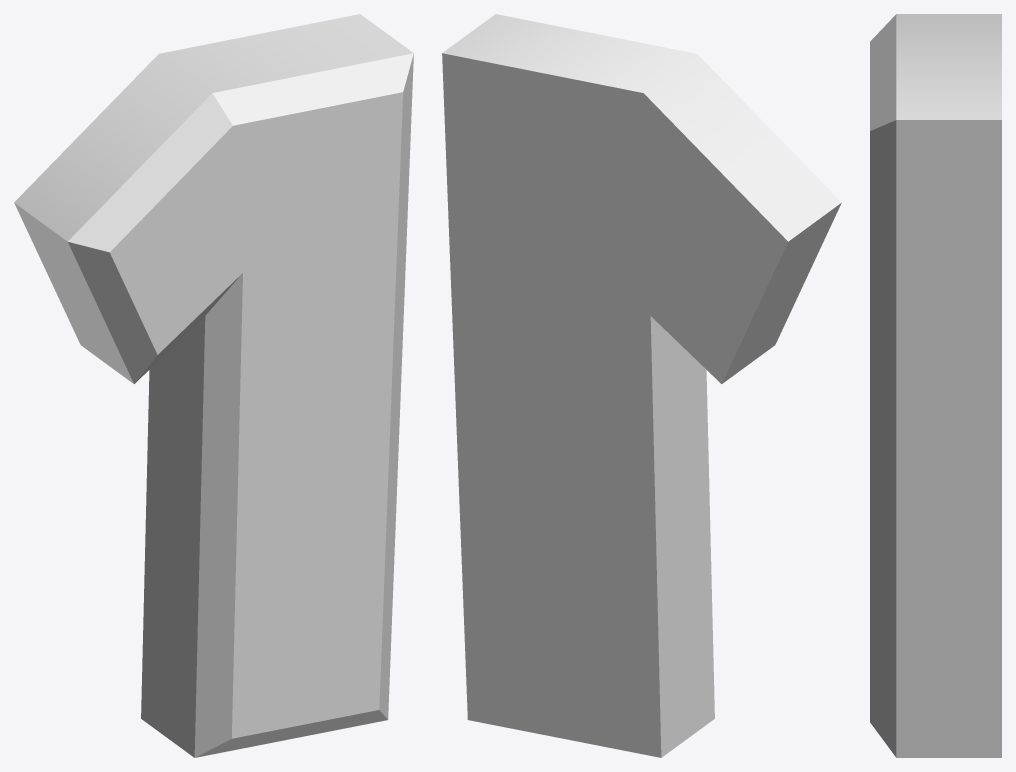
File: LettersStylized01_1.FBX
3 renders of one model, left to right at view 1: azimuth 30°, elevation 25°; view 2: azimuth 150°, elevation 25°; view 3: azimuth 270°, elevation 25°, orthographic.
Visible parts, largest first — view 1: LettersStylized01_1; view 2: LettersStylized01_1; view 3: LettersStylized01_1.
Part boxes in pixels (left/top/right/bottom): LettersStylized01_1: left=14, top=14, right=413, bottom=757; LettersStylized01_1: left=442, top=14, right=841, bottom=757; LettersStylized01_1: left=870, top=14, right=1001, bottom=757.
Size of what is drawn, in the model's own units: 0.2476 by 0.4578 by 0.083.
